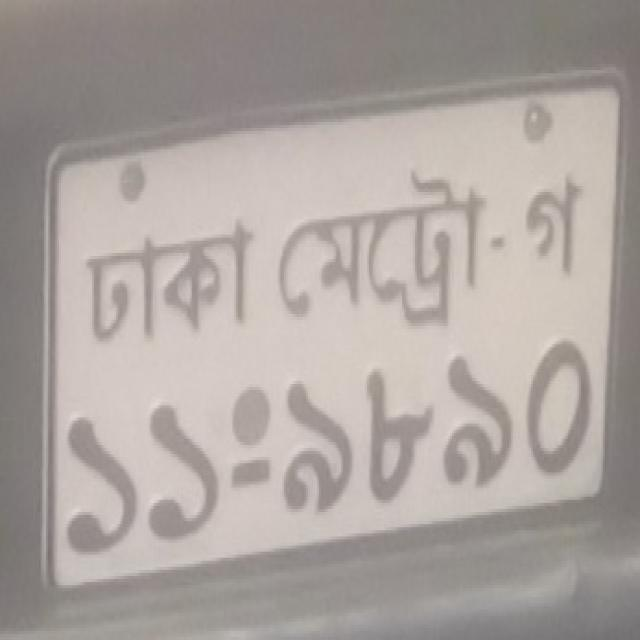numberplate: (39, 69, 625, 589)
